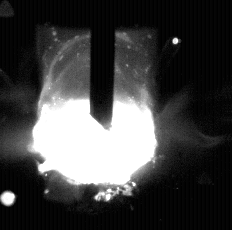arame: (91, 0, 115, 132)
poca: (31, 0, 159, 230)
